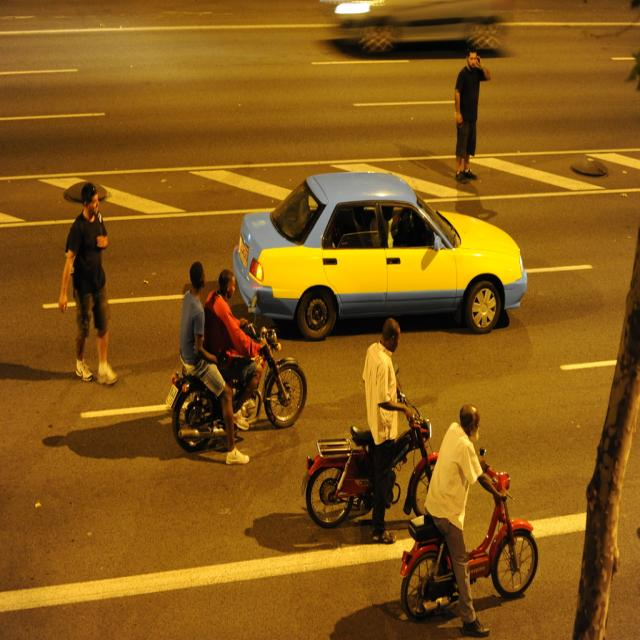car: (227, 165, 527, 337)
